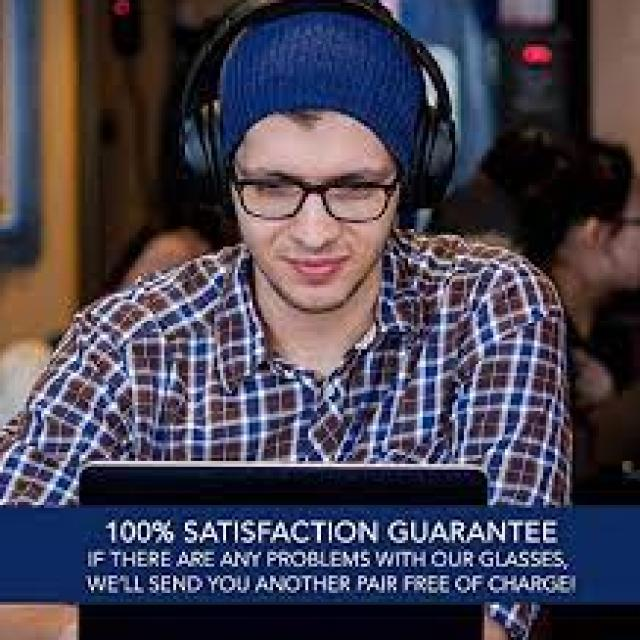Glasses: (229, 170, 404, 226)
